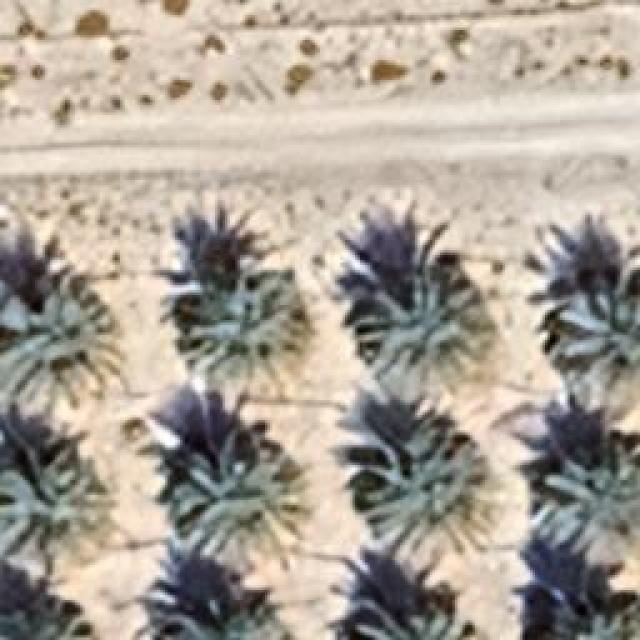PalmTree: (354, 420, 508, 570), (170, 430, 315, 575), (358, 264, 490, 388), (180, 270, 308, 385), (0, 297, 125, 395), (0, 472, 110, 580), (528, 455, 638, 560), (558, 282, 638, 420), (180, 592, 282, 638), (542, 592, 638, 638), (0, 598, 95, 638), (358, 612, 472, 638)
